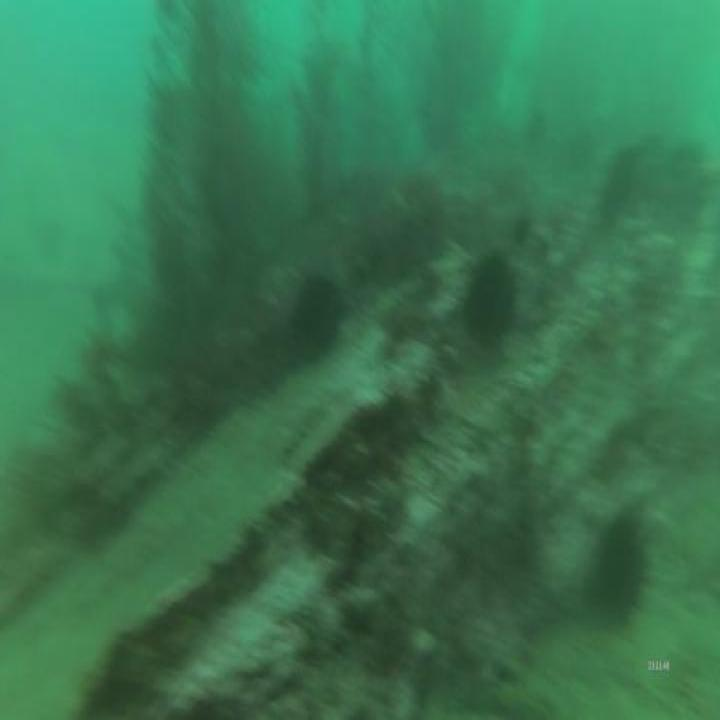echinus: (594, 498, 656, 634), (462, 247, 525, 357), (288, 265, 351, 363)
